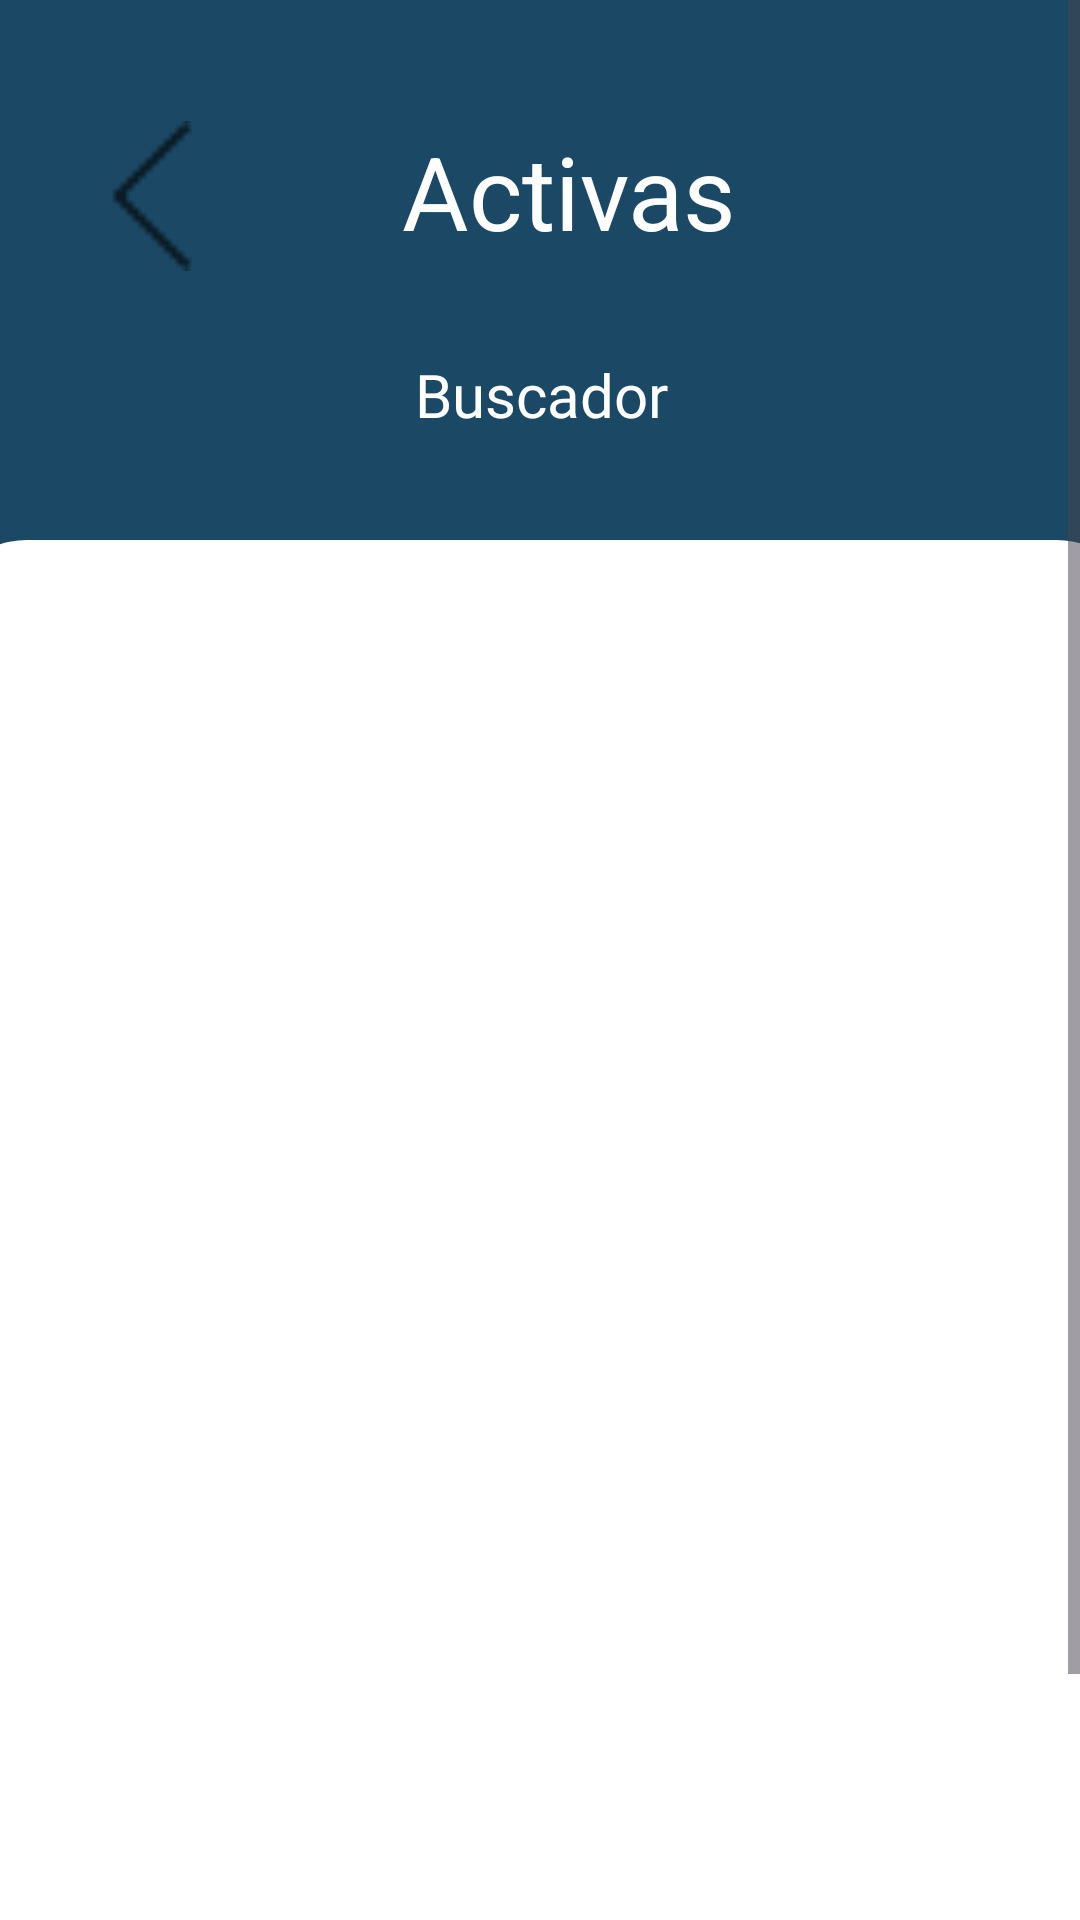

Icons on this 1080 × 1920 Android screen, each with its box as bbox(x1, y1, x2, y2):
flecha: bbox(114, 121, 190, 271)
